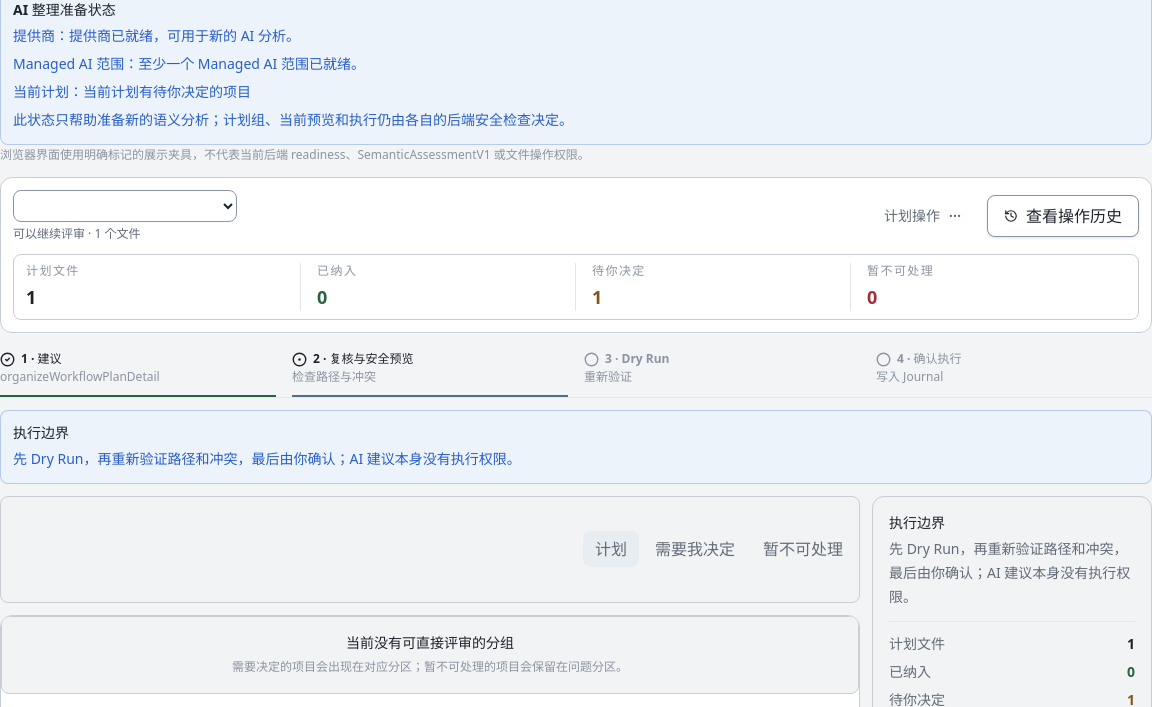
Test: Organize independent review behavior › does not offer acceptance for a collision item while keeping the edit action
Click the button "暂不可处理". click: point(803, 549)
box: [751,531,855,567]
(page scrolled)
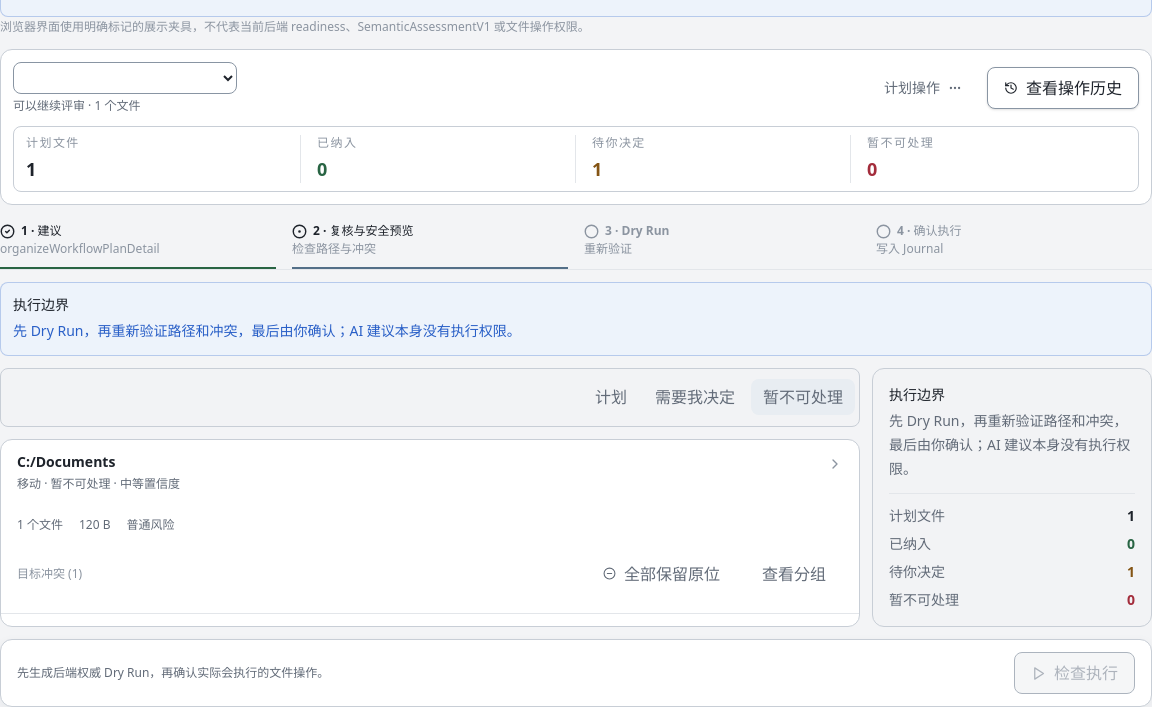
Click the option. click: point(66, 461)
box: [1,440,859,614]
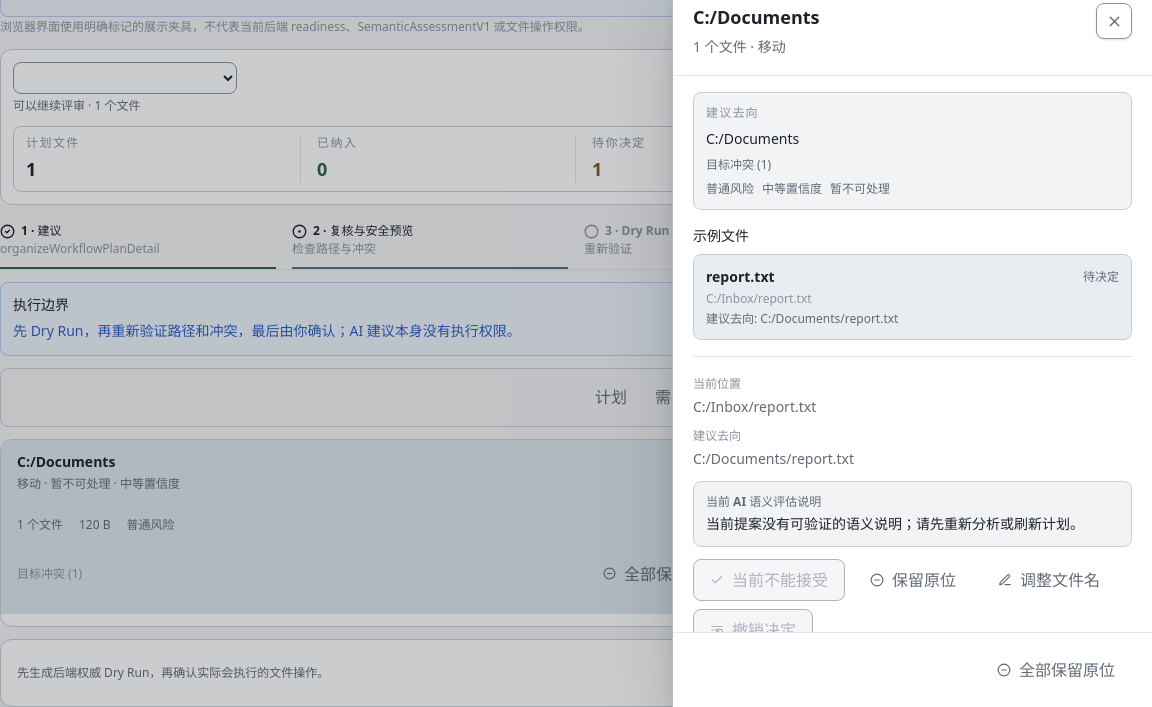
Result: the button "当前不能接受" is disabled at [693,559,845,601]
Result: the button "调整文件名" is enabled at [981,559,1117,601]
